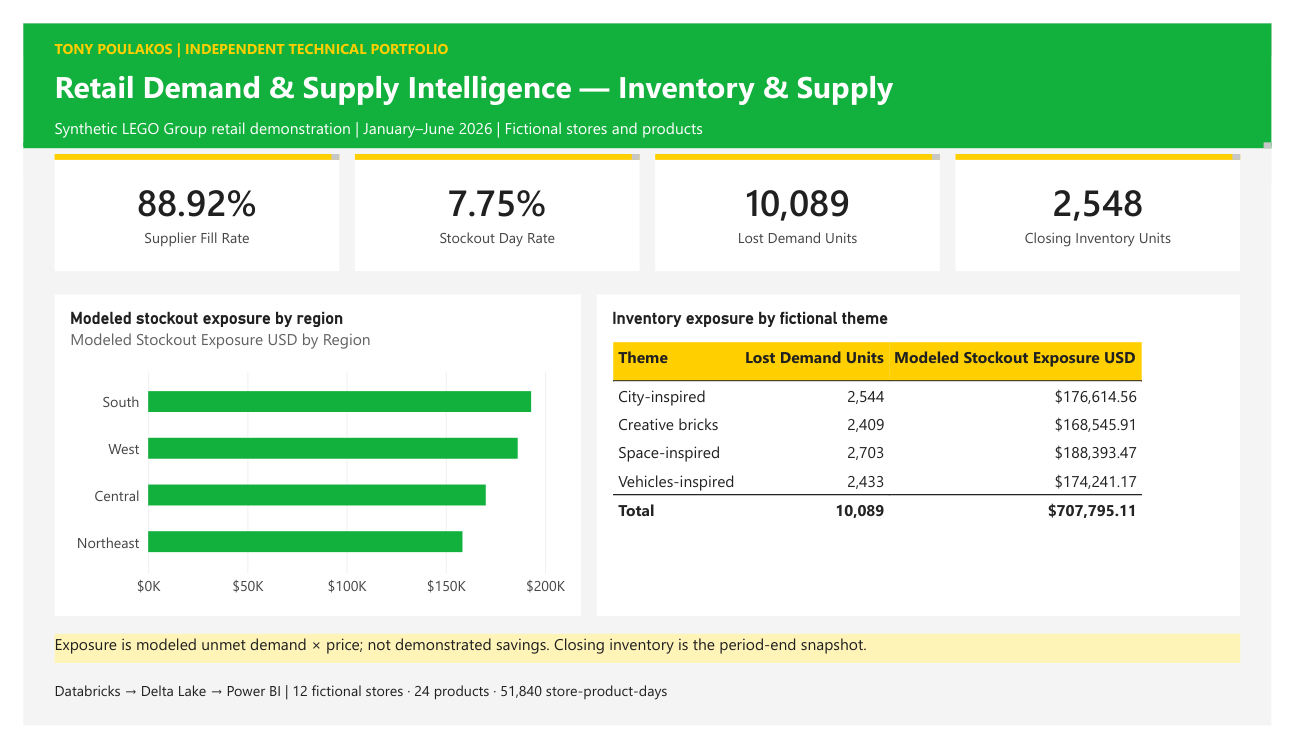

The page's visual inventory and layout, read from the dashboard file:
{"tool":"powerbi","page":{"name":"Inventory & Supply","canvas":[1280,720],"ordinal":4},"visuals":[{"type":"textbox","box":[0,0,1280,126],"z":0},{"type":"textbox","box":[32,674,1216,25],"z":1000},{"type":"textbox","box":[0,122,1280,6],"z":2000},{"type":"card","fields":{"Values":["gold_fact_replenishment.Supplier Fill Rate"]},"box":[32,134,292,120],"z":3000},{"type":"card","fields":{"Values":["gold_fact_daily.Stockout Day Rate"]},"box":[340,134,292,120],"z":4000},{"type":"card","fields":{"Values":["gold_fact_daily.Lost Demand Units"]},"box":[648,134,292,120],"z":5000},{"type":"card","fields":{"Values":["gold_fact_daily.Closing Inventory Units"]},"box":[956,134,292,120],"z":6000},{"type":"clusteredBarChart","title":"Modeled stockout exposure by region","fields":{"Category":["gold_dim_store.region"],"Y":["gold_fact_daily.Modeled Stockout Exposure USD"]},"box":[32,278,540,330],"z":7000},{"type":"tableEx","title":"Inventory exposure by fictional theme","fields":{"Values":["gold_dim_product.theme","gold_fact_daily.Lost Demand Units","gold_fact_daily.Modeled Stockout Exposure USD"]},"box":[588,278,660,330],"z":8000},{"type":"textbox","box":[32,626,1216,30],"z":9000},{"type":"textbox","box":[32.2,15.3,1215.7,30.6],"z":10000},{"type":"textbox","box":[32.2,44.4,1215.7,58.2],"z":11000},{"type":"textbox","box":[32.2,96.5,1215.7,30.6],"z":12000},{"type":"textbox","box":[32,134,292,6],"z":13000},{"type":"textbox","box":[340,134,292,6],"z":14000},{"type":"textbox","box":[648,134,292,6],"z":15000},{"type":"textbox","box":[956,134,292,6],"z":16000}]}

Visuals, with their boxes in screenshot pixels (x1, y1, x2, y2), scaled from the page's 1280x720 canvas onto the 1295x749 screenshot:
textbox: <box>0,0,1294,131</box>
textbox: <box>32,701,1263,727</box>
textbox: <box>0,127,1294,133</box>
card - gold_fact_replenishment.Supplier Fill Rate: <box>32,139,328,264</box>
card - gold_fact_daily.Stockout Day Rate: <box>344,139,639,264</box>
card - gold_fact_daily.Lost Demand Units: <box>656,139,951,264</box>
card - gold_fact_daily.Closing Inventory Units: <box>967,139,1263,264</box>
"Modeled stockout exposure by region" clusteredBarChart: <box>32,289,579,632</box>
"Inventory exposure by fictional theme" tableEx: <box>595,289,1263,632</box>
textbox: <box>32,651,1263,682</box>
textbox: <box>33,16,1263,48</box>
textbox: <box>33,46,1263,107</box>
textbox: <box>33,100,1263,132</box>
textbox: <box>32,139,328,146</box>
textbox: <box>344,139,639,146</box>
textbox: <box>656,139,951,146</box>
textbox: <box>967,139,1263,146</box>
